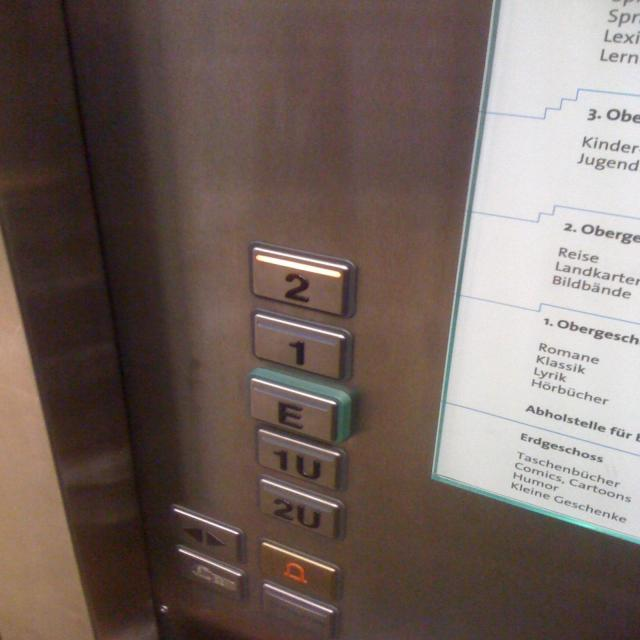1: (248, 308, 354, 382)
1U: (245, 427, 353, 498)
2: (249, 240, 356, 318)
2U: (248, 476, 348, 540)
E: (245, 370, 355, 449)
alarm: (252, 534, 344, 605)
open: (166, 501, 249, 568)
text_blur: (252, 577, 346, 640)
unknown: (166, 540, 248, 604)
